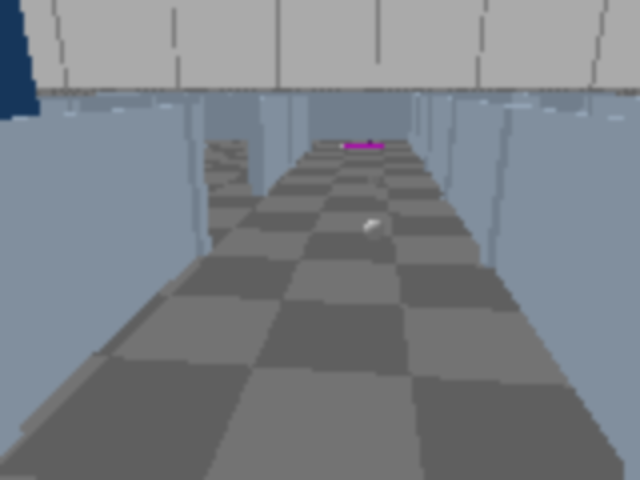person: (0, 0, 53, 348)
puck: (360, 216, 389, 244)
